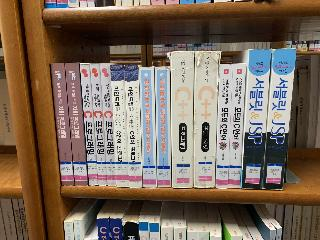book-spine: (259, 46, 297, 191), (240, 48, 271, 190), (193, 50, 221, 188), (170, 51, 195, 188), (51, 62, 74, 187), (65, 62, 88, 187), (226, 63, 246, 189), (110, 65, 129, 188), (124, 65, 142, 189), (80, 63, 98, 186), (90, 63, 108, 186), (139, 67, 157, 188), (216, 64, 233, 189), (100, 62, 116, 187), (155, 66, 171, 188)
